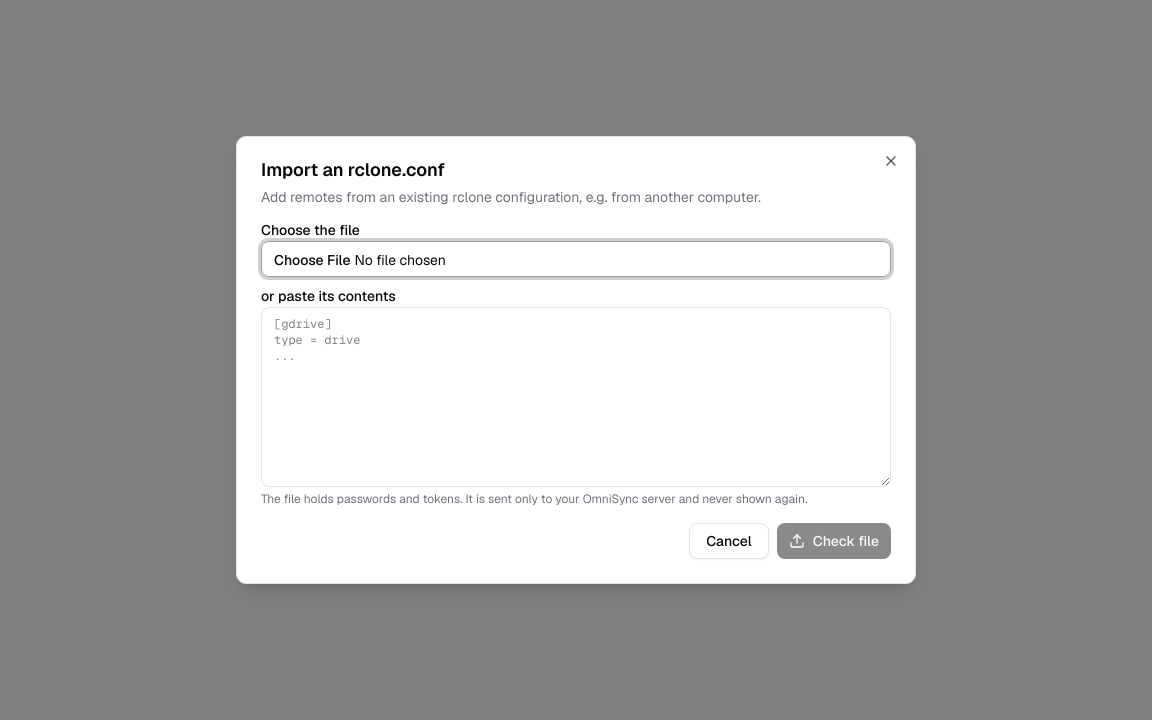
Scenario: RemoteImportDialog › shows why a file cannot be read
The image size is (1152, 720).
Click the text box labelled "or paste its contents" at (576, 397), box [261,307,891,487]
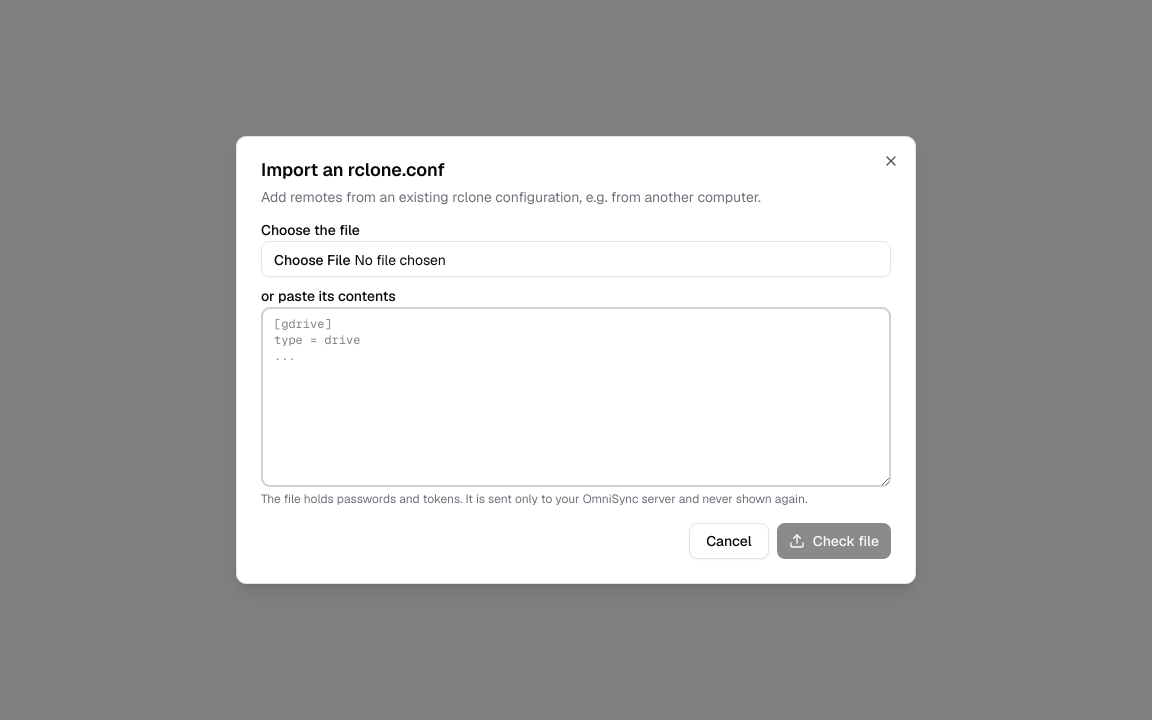
Type keys "RCLONE_ENCRYPT_V0:abc"
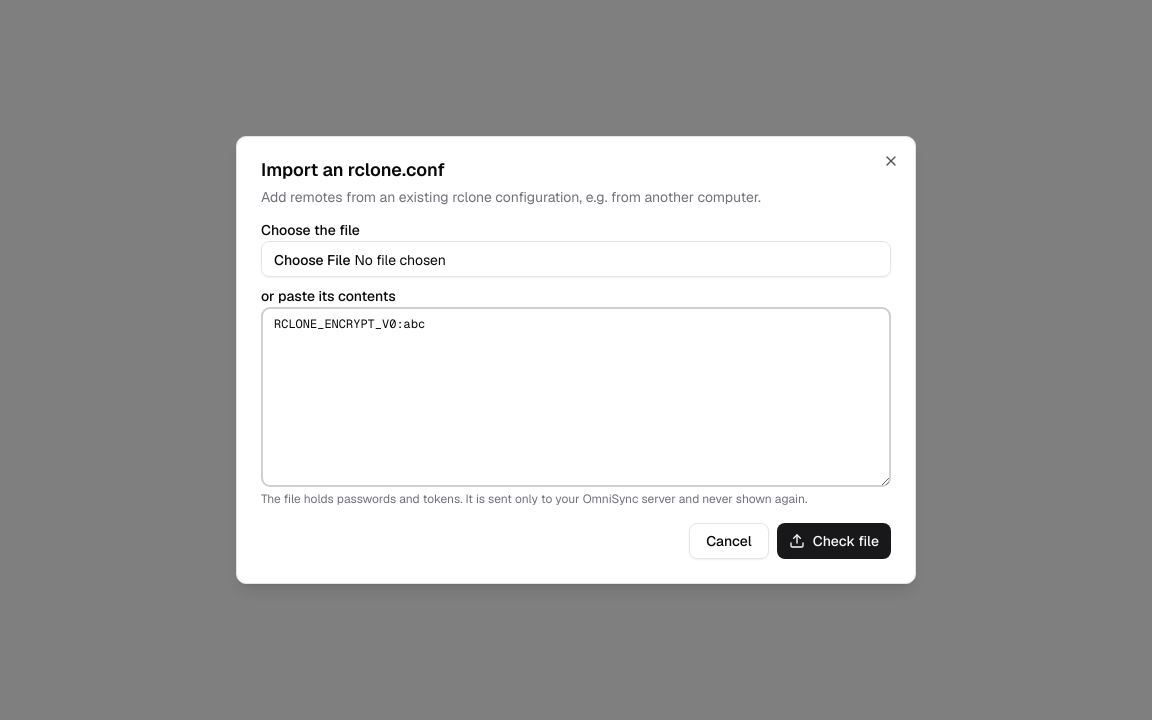
Click the button "Check file" at (834, 541), box [777,523,891,559]
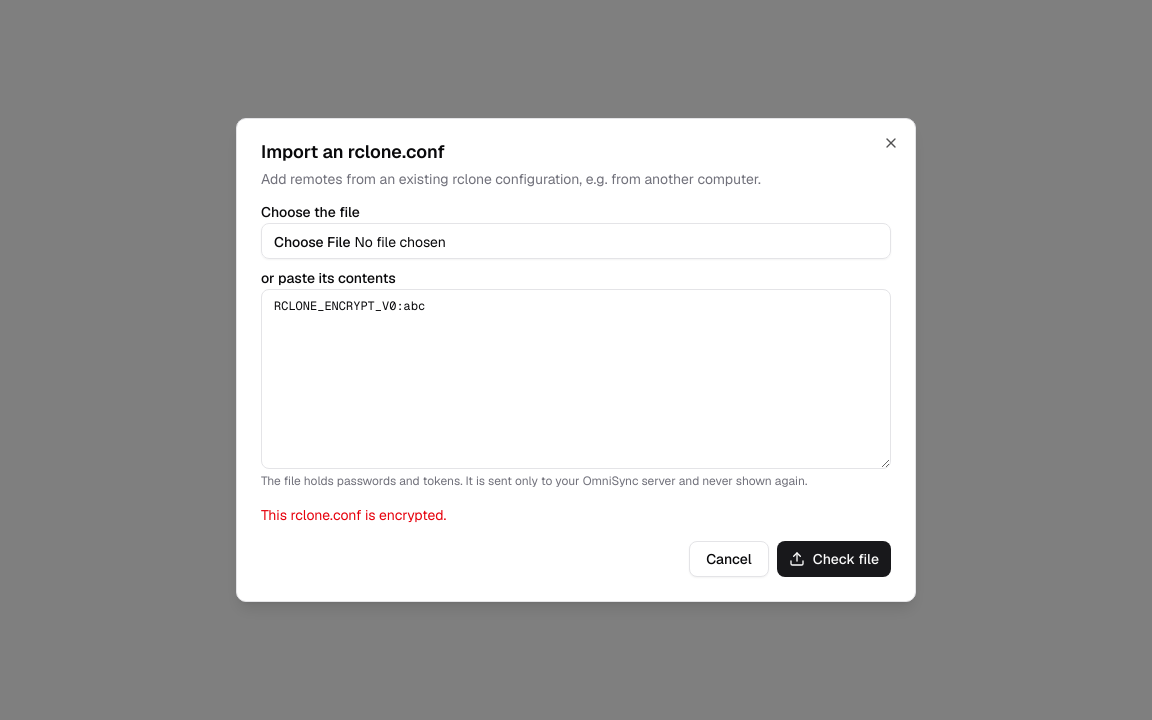
Check: the message shows "encrypted", box [261,506,446,524]
